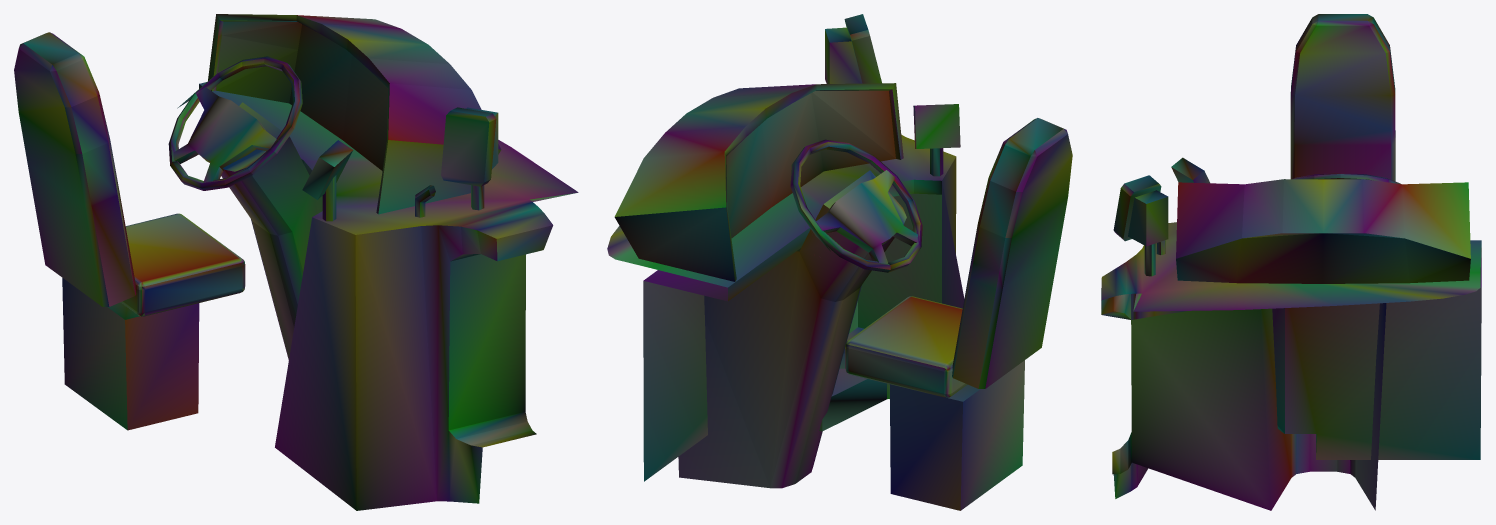
File: SM_busChair5.fbx
3 renders of one model, left to right at view 1: azimuth 30°, elevation 25°; view 2: azimuth 150°, elevation 25°; view 3: azimuth 270°, elevation 25°, orthographic. The views are drawn at different scales.
Visible parts, largest first — view 1: polySurface425; view 2: polySurface425; view 3: polySurface425.
Boxes of the visible parts, x1,y1,x2,y2 form: polySurface425: (14,14,578,510); polySurface425: (607,14,1072,510); polySurface425: (1101,14,1481,510).
Size of the model in its own units: 104 by 102 by 96.46.
